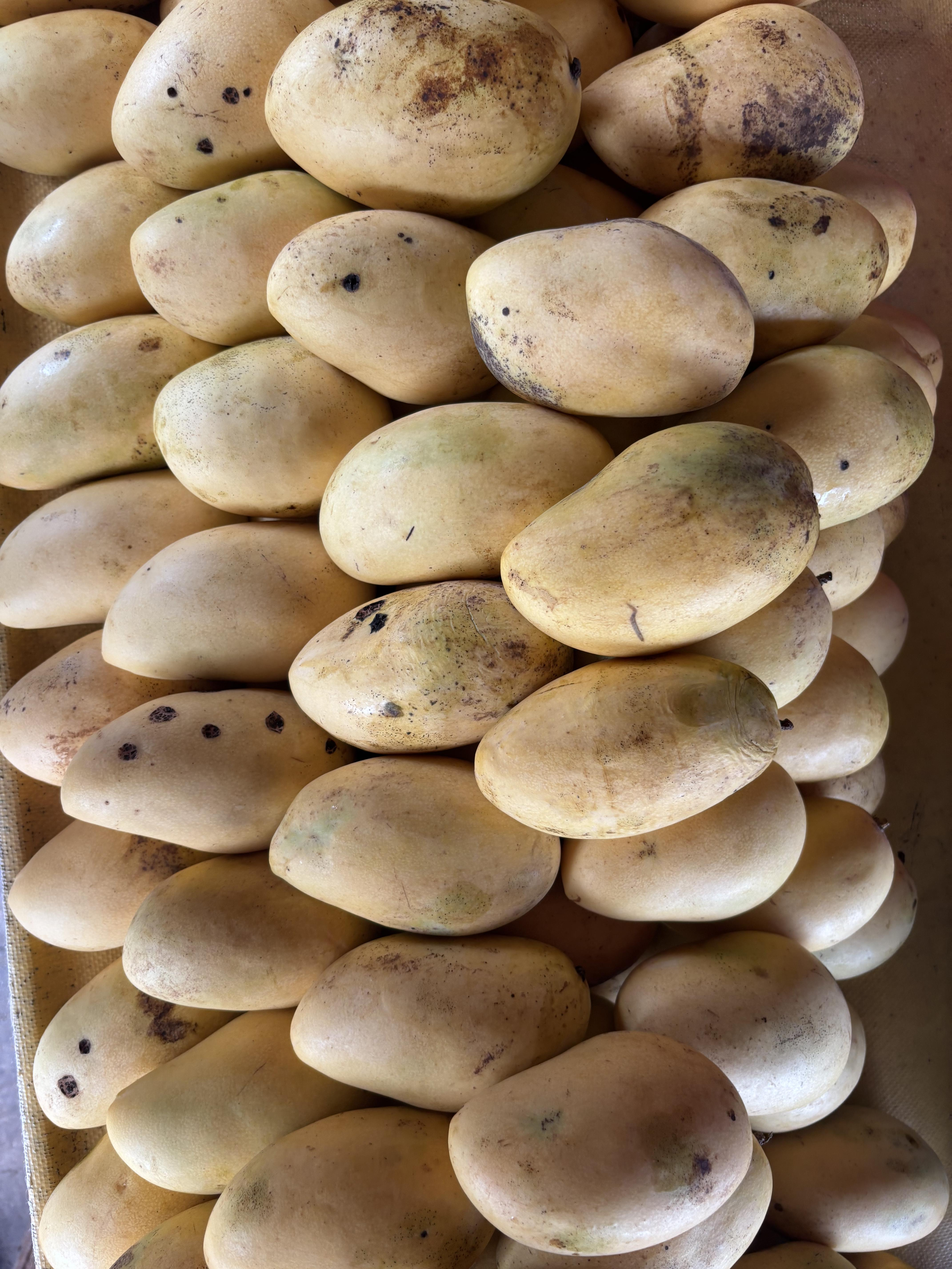mango: (501, 421, 818, 656), (449, 1031, 754, 1259), (466, 218, 754, 416)
occluded: (265, 0, 582, 217), (475, 652, 780, 839), (581, 3, 864, 195), (320, 401, 612, 585), (291, 933, 590, 1112), (270, 756, 560, 935), (107, 1008, 378, 1194), (289, 579, 573, 754), (60, 688, 353, 853), (204, 1105, 491, 1269), (640, 177, 893, 361), (682, 346, 934, 529), (268, 210, 494, 405), (102, 522, 374, 682), (615, 932, 851, 1115), (154, 336, 391, 518), (112, 0, 333, 191), (123, 852, 379, 1011), (130, 170, 359, 345), (561, 763, 806, 922), (0, 313, 219, 490), (0, 471, 245, 628), (494, 1140, 772, 1269), (33, 959, 236, 1129), (0, 630, 215, 785), (712, 796, 895, 953), (6, 161, 181, 325), (764, 1105, 948, 1253), (8, 821, 215, 952), (0, 10, 154, 177), (39, 1137, 207, 1269), (684, 569, 833, 716), (686, 569, 832, 717), (495, 874, 656, 985), (776, 636, 889, 783), (750, 1005, 866, 1134), (813, 159, 916, 293), (815, 859, 918, 980), (510, 0, 633, 89), (827, 316, 937, 415), (833, 571, 909, 677), (807, 511, 884, 610), (110, 1201, 216, 1269), (863, 299, 943, 385), (800, 755, 885, 814), (622, 0, 769, 29), (734, 1241, 852, 1269), (846, 1251, 912, 1269)
